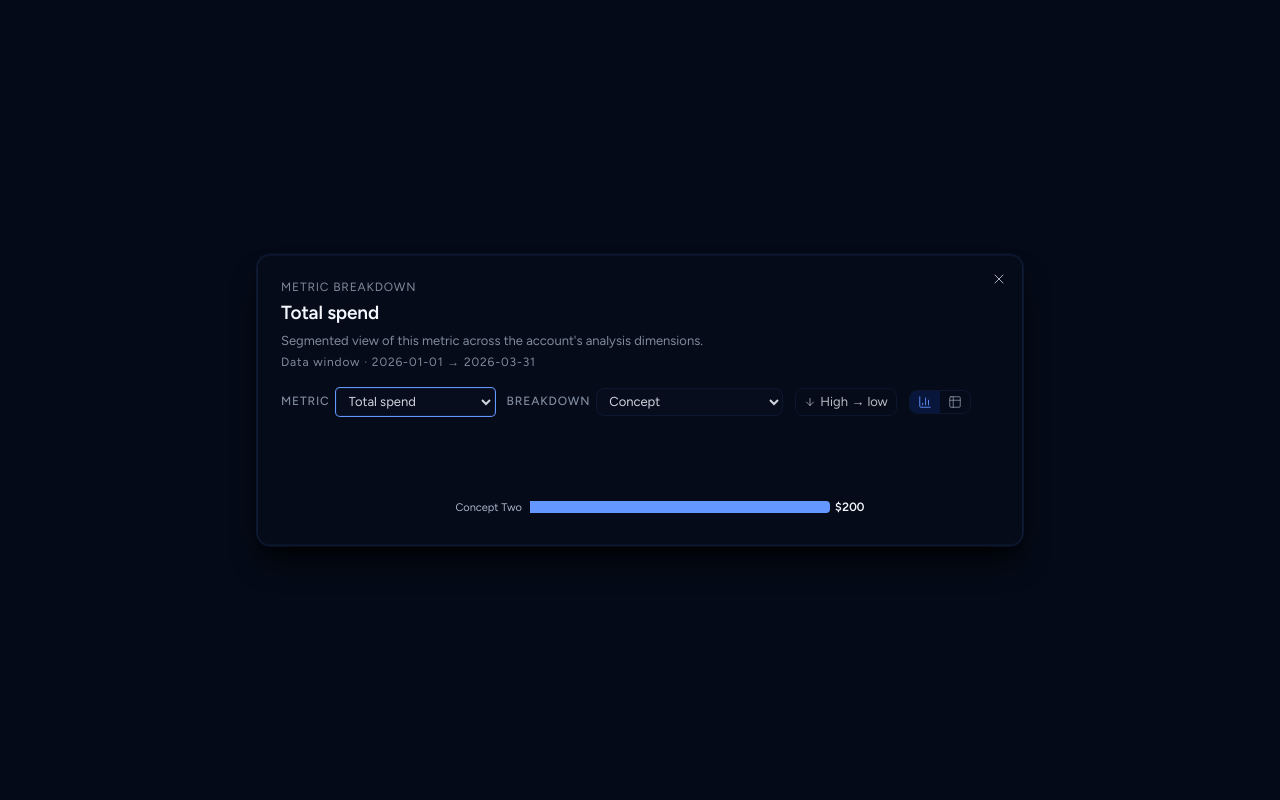
Scenario: KpiDrilldownModal · account scope › dimension switching re-segments the data
The width and height of the screenshot is (1280, 800).
Click the button named "Table view" at {"x": 955, "y": 401}, box [940,390,970,412]
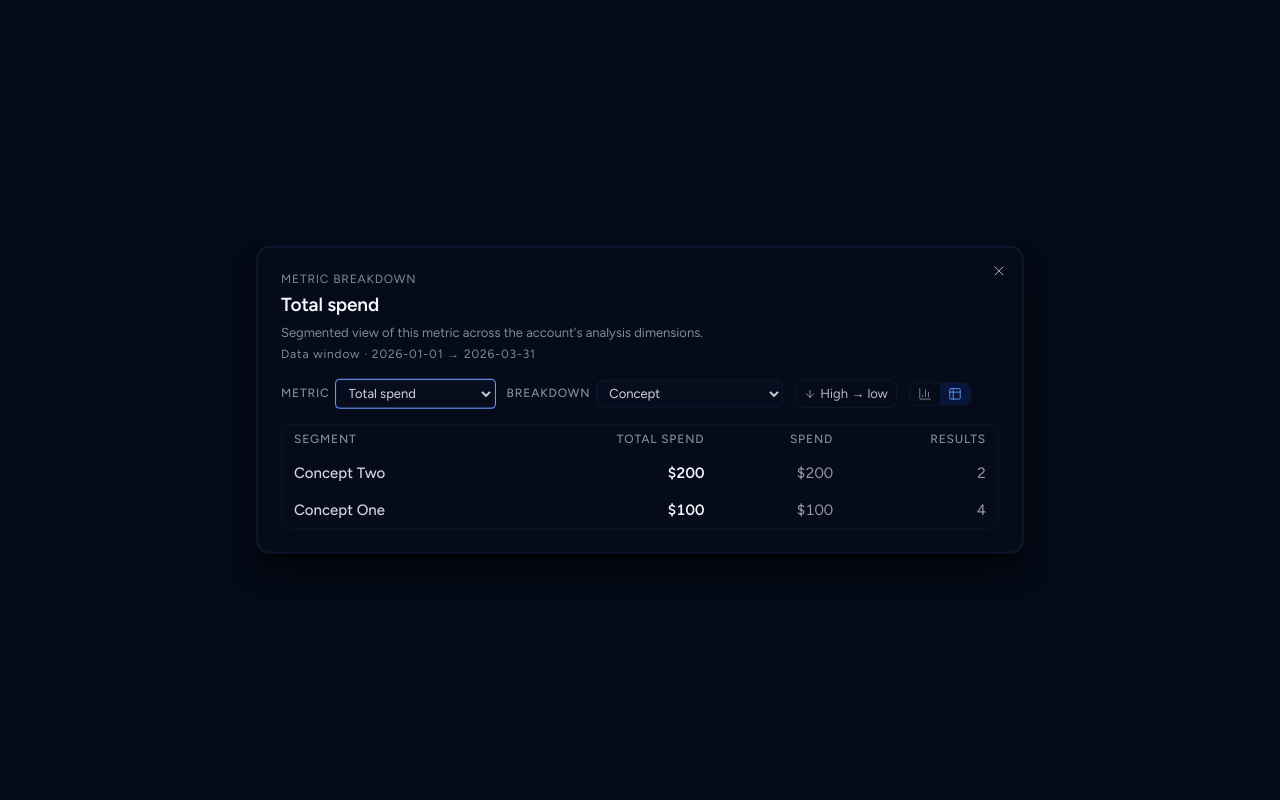
Now the element with test id "kpi-drilldown-table" shows "Concept One", box [294,501,385,519]
Select "Creative cell" in the dropdown labelled "Breakdown" at {"x": 690, "y": 394}, box [596,380,783,408]
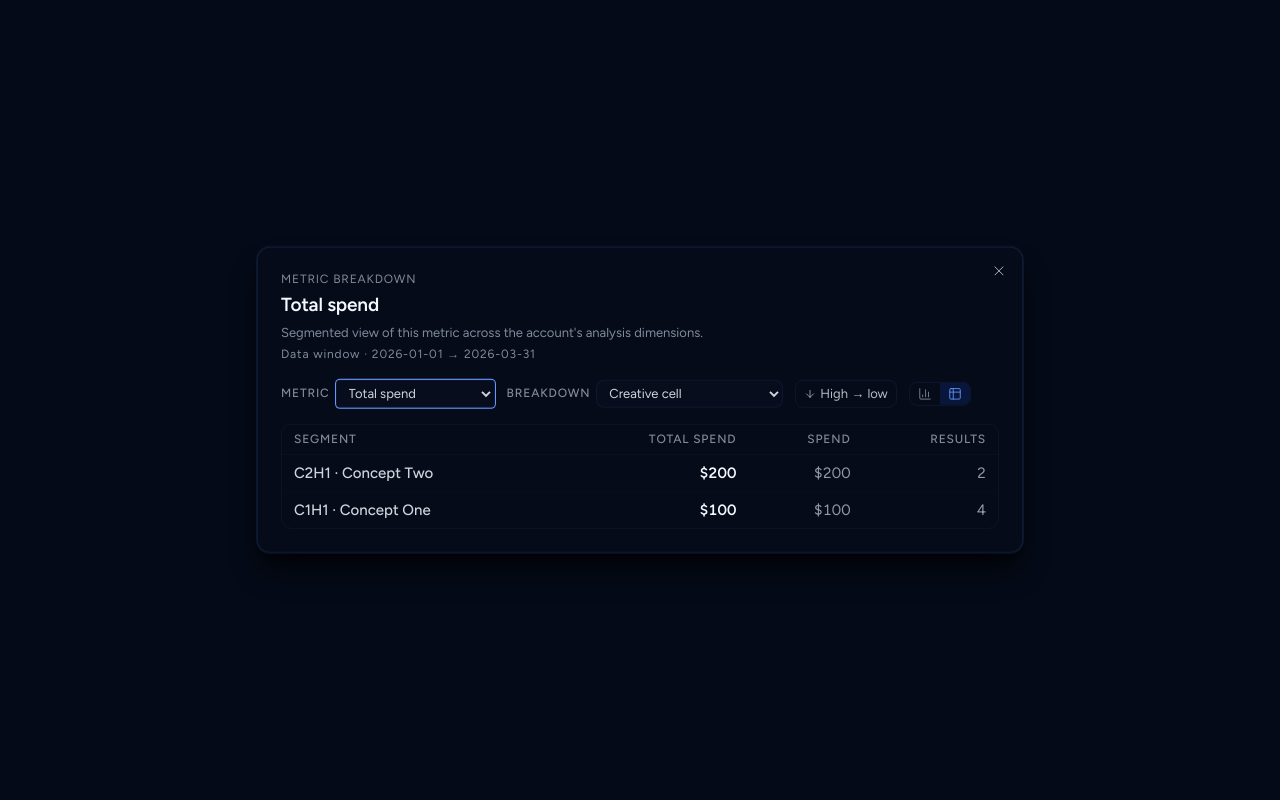
Now the element with test id "kpi-drilldown-table" shows "C1H1", box [294,501,431,519]
